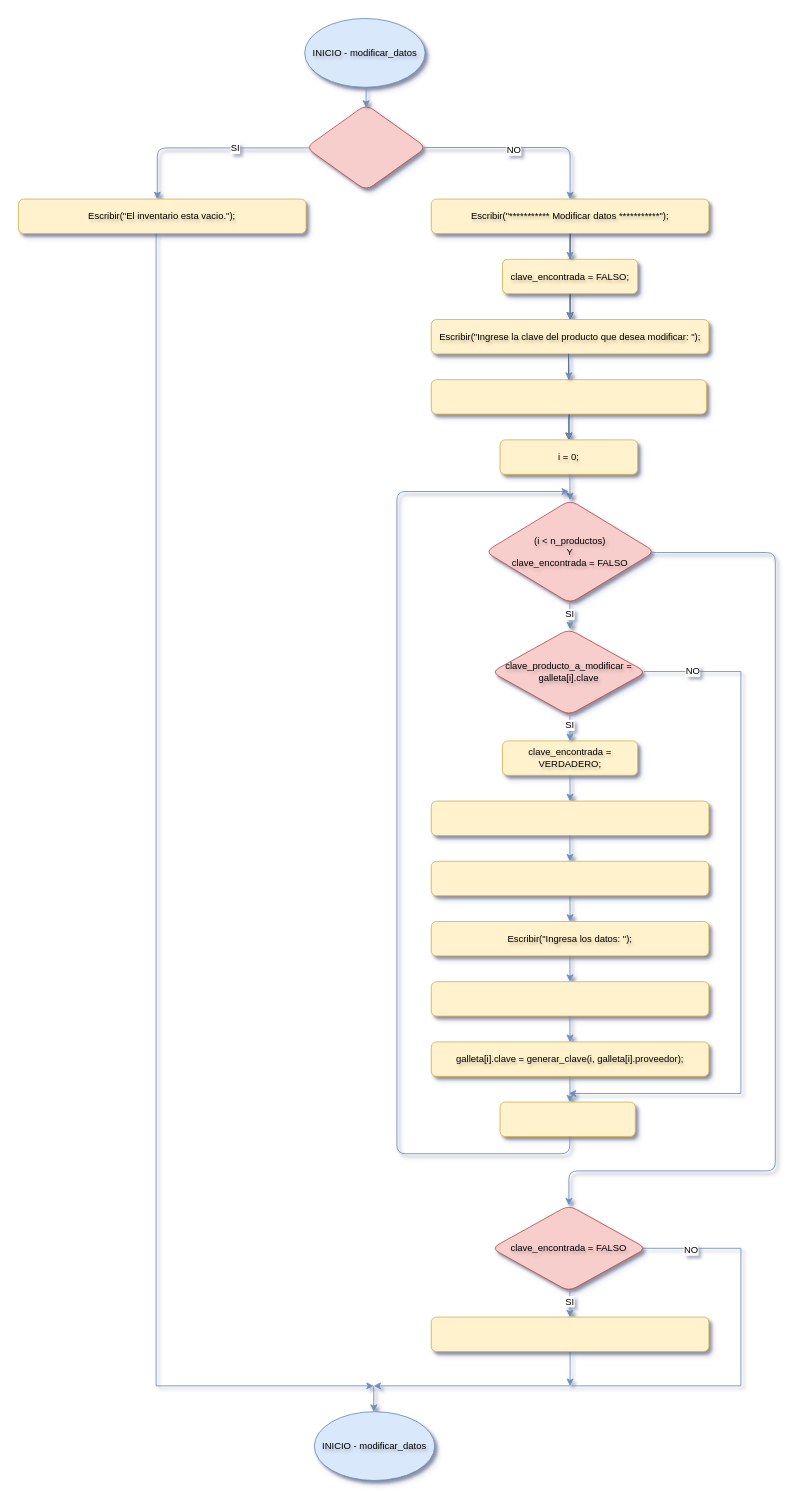
Some shapes in this 808 by 1507 pixel diagram are drawn without their labels. The shapes that lost their labels are listed below. From the top down, each one's centre as x and y in pixels, then its label:
the point at 366,148: n_productos = 0
the point at 569,397: Leer(clave_producto_a_modificar;
the point at 570,819: Escribir("El producto a modificar es: ");
the point at 570,879: mostrar_producto(i, galleta);
the point at 570,999: ingresar_datos(i, galleta);
the point at 568,1120: i = i +1
the point at 570,1335: Escribir("No se encontro la clave.");
